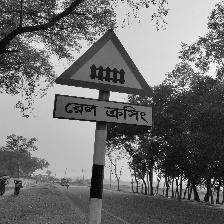Rail-crossing: (53, 29, 155, 129)
